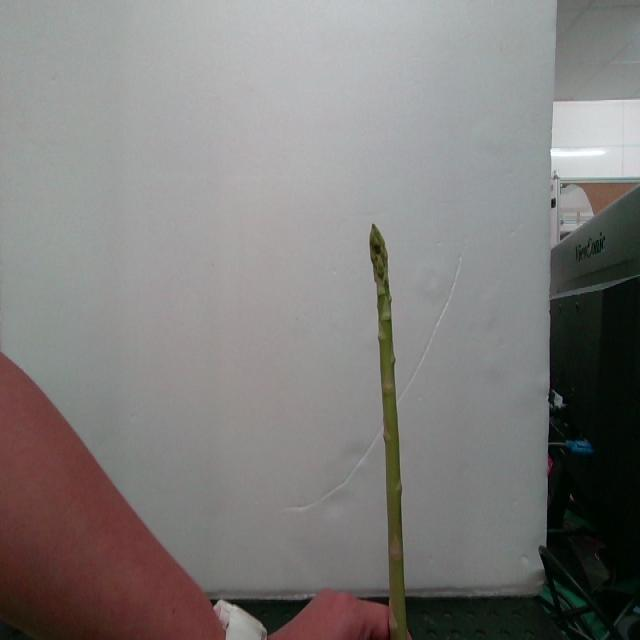aspargus: (370, 227, 415, 640)
